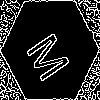M: (25, 25, 78, 85)
